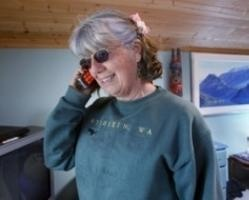person without safety: (39, 13, 219, 200)
